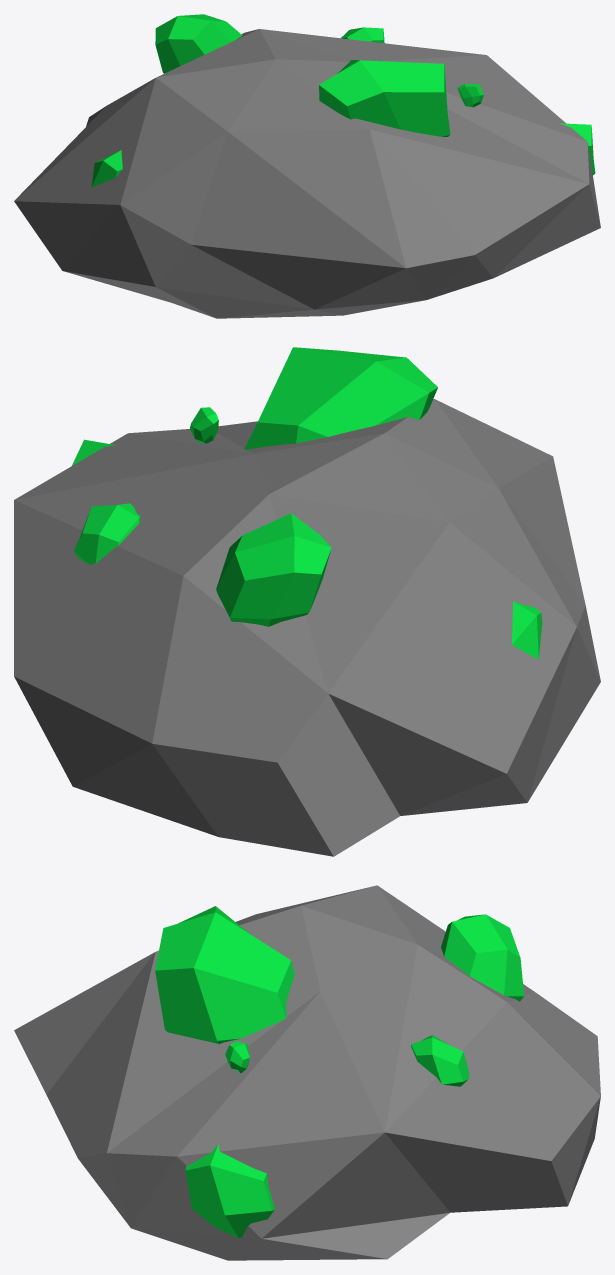
Rendered from minerai emeraude.fbx.
3 renders of one model, top to bottom at view 1: azimuth 30°, elevation 25°; view 2: azimuth 150°, elevation 25°; view 3: azimuth 270°, elevation 25°, orthographic. The views are drawn at different scales.
Visible parts, largest first — view 1: Icosphere, Cube.001, Cube, Cube.003, Cube.004, Cube.005, Cube.002; view 2: Icosphere, Cube.001, Cube, Cube.004, Cube.003, Cube.005; view 3: Icosphere, Cube.001, Cube.002, Cube, Cube.004, Cube.005.
Part boxes in pixels (x1,y1,x2,y2): Icosphere: (14, 29, 600, 318); Cube.001: (319, 60, 450, 136); Cube: (155, 14, 242, 73); Cube.003: (91, 150, 122, 187); Cube.004: (341, 27, 384, 43); Cube.005: (457, 84, 483, 107); Cube.002: (559, 123, 595, 174); Icosphere: (14, 399, 600, 856); Cube.001: (244, 347, 437, 449); Cube: (216, 513, 331, 626); Cube.004: (73, 503, 140, 564); Cube.003: (511, 601, 542, 659); Cube.005: (190, 407, 218, 443); Icosphere: (14, 885, 600, 1260); Cube.001: (155, 906, 294, 1044); Cube.002: (185, 1144, 274, 1238); Cube: (441, 914, 524, 1001); Cube.004: (411, 1035, 469, 1086); Cube.005: (225, 1041, 249, 1073).
Bounding box in the file's own units: 61.77 × 32.3 × 61.88.
